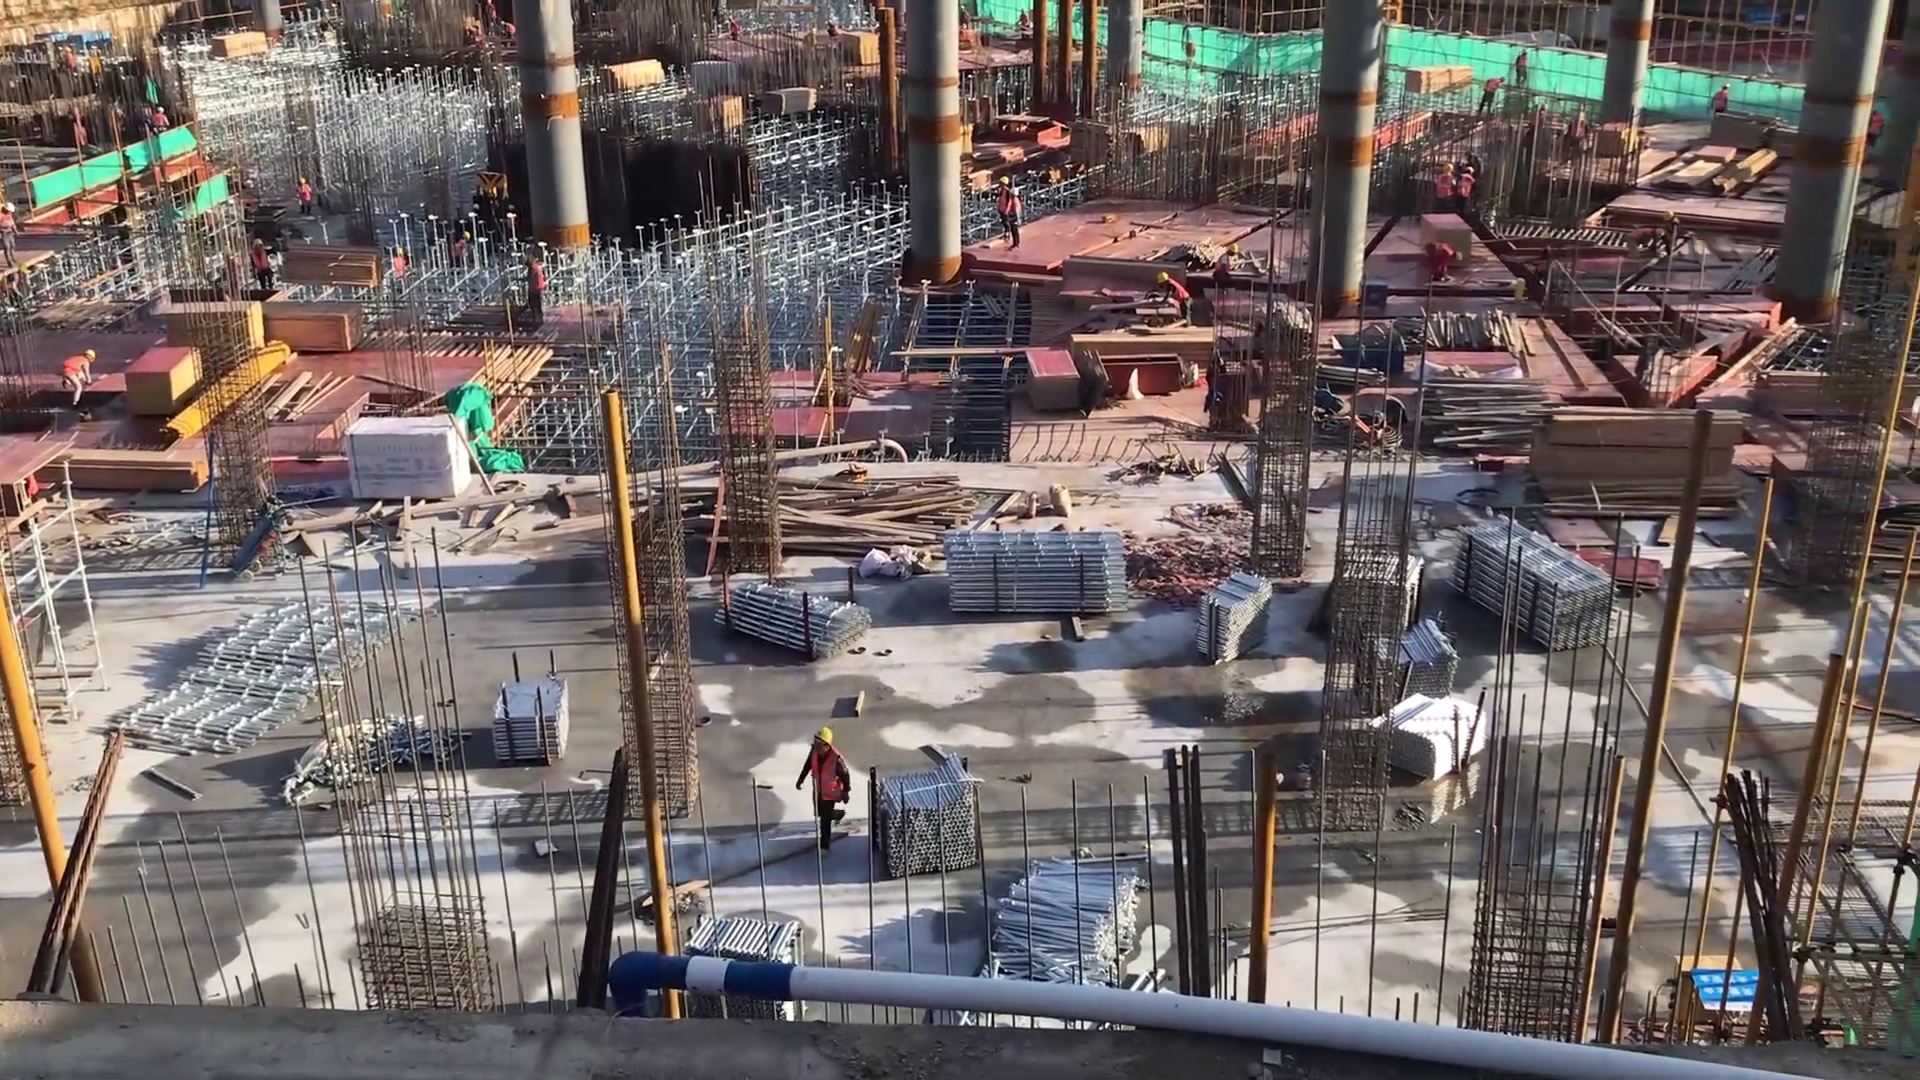board: (165, 299, 264, 373), (1563, 543, 1668, 604), (127, 343, 205, 420), (1024, 345, 1088, 416), (837, 30, 879, 71)
helmet: (809, 726, 838, 759), (1157, 268, 1174, 287), (81, 347, 95, 368), (253, 235, 269, 252), (1227, 241, 1241, 256), (2, 201, 17, 214), (298, 176, 309, 191), (1452, 248, 1462, 263), (394, 246, 406, 259), (154, 106, 166, 116), (1009, 186, 1021, 197), (1441, 163, 1453, 174), (998, 175, 1012, 185), (461, 230, 471, 240)
hook: (1327, 327, 1418, 374)
person: (800, 722, 850, 859), (59, 347, 98, 411), (1152, 263, 1191, 325), (248, 236, 281, 297), (1421, 238, 1463, 285), (526, 251, 548, 332), (1477, 73, 1508, 124), (1, 200, 23, 267), (1434, 158, 1456, 219), (1215, 239, 1239, 292), (1456, 163, 1478, 218), (389, 244, 410, 301), (1864, 107, 1889, 155), (452, 229, 473, 280), (1510, 47, 1533, 89), (1005, 187, 1021, 248), (996, 176, 1011, 235), (1710, 82, 1730, 124), (295, 174, 314, 219), (151, 103, 170, 148), (725, 10, 745, 51), (499, 17, 520, 47), (959, 2, 976, 37), (1014, 7, 1033, 38), (483, 1, 500, 31)
scaffold: (993, 845, 1159, 1032), (1437, 502, 1613, 666), (945, 524, 1138, 634), (865, 755, 991, 891), (711, 573, 880, 662), (1195, 559, 1275, 682), (1370, 619, 1451, 707)
slogan: (1697, 964, 1771, 1015)
vest: (807, 746, 852, 816), (62, 349, 90, 387), (1167, 275, 1191, 309), (249, 247, 275, 276), (1434, 170, 1454, 205), (1008, 196, 1023, 232), (1458, 174, 1477, 203), (1433, 239, 1452, 267), (997, 188, 1009, 219)
wood: (1534, 402, 1755, 518), (781, 469, 973, 560), (1427, 371, 1559, 454), (1749, 366, 1915, 422), (51, 444, 208, 491), (262, 295, 368, 361), (1067, 334, 1226, 370), (281, 241, 383, 286), (198, 26, 270, 80), (599, 53, 671, 97), (1401, 60, 1477, 99), (761, 84, 816, 123)
